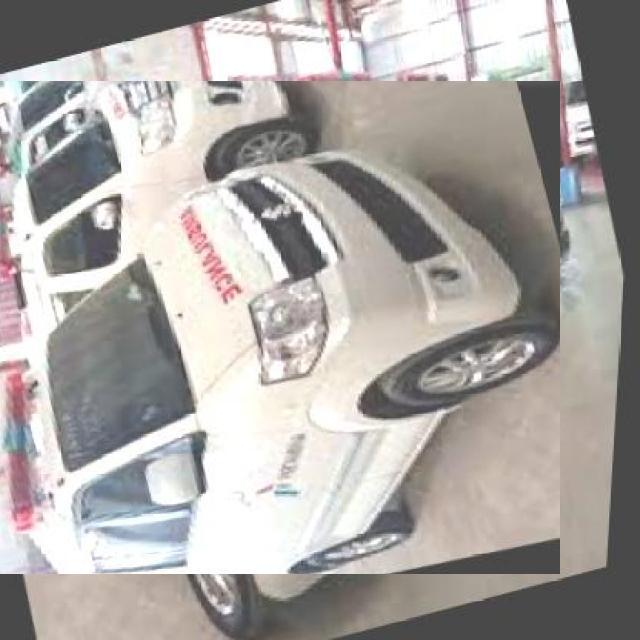emergency-vehicle: (0, 47, 527, 607)
